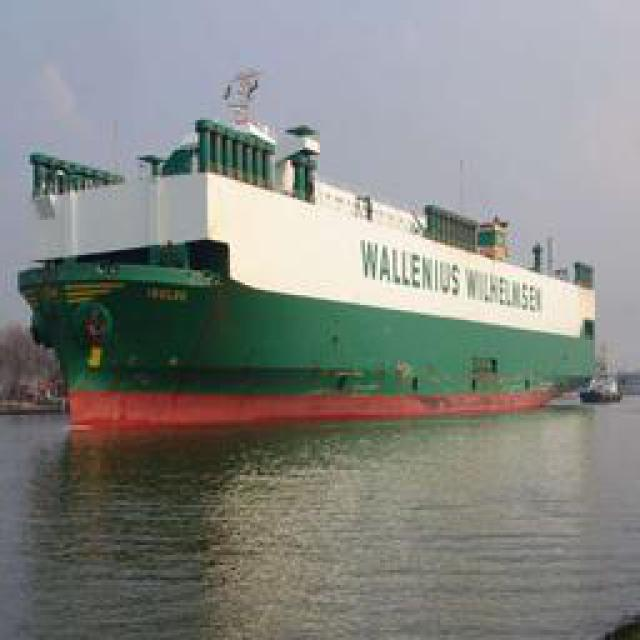Ship: (30, 89, 598, 434)
